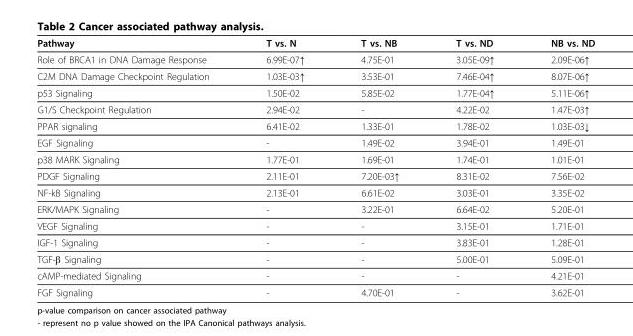table: (36, 36, 594, 297)
table column: (36, 36, 237, 297), (237, 36, 332, 297), (426, 36, 521, 297), (332, 36, 426, 297), (521, 36, 594, 297)
table column header: (36, 36, 594, 50)
table row: (36, 249, 594, 267), (36, 50, 594, 67), (36, 67, 594, 84), (36, 84, 594, 101), (36, 117, 594, 134), (36, 150, 594, 167), (36, 167, 594, 184), (36, 200, 594, 217), (36, 101, 594, 117), (36, 134, 594, 150), (36, 184, 594, 200), (36, 217, 594, 233), (36, 233, 594, 249), (36, 267, 594, 283), (36, 36, 594, 50), (36, 283, 594, 297)
